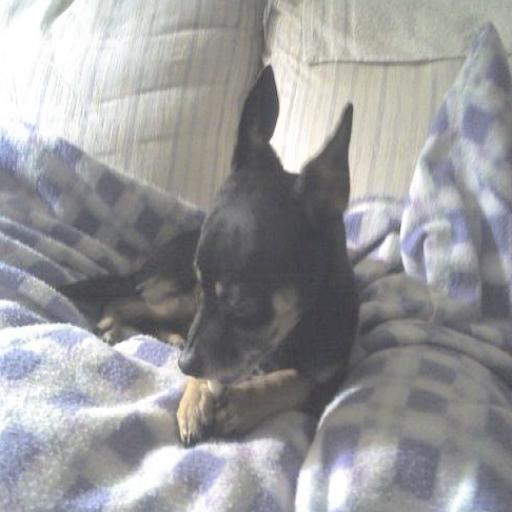dog_face: (181, 72, 352, 391)
